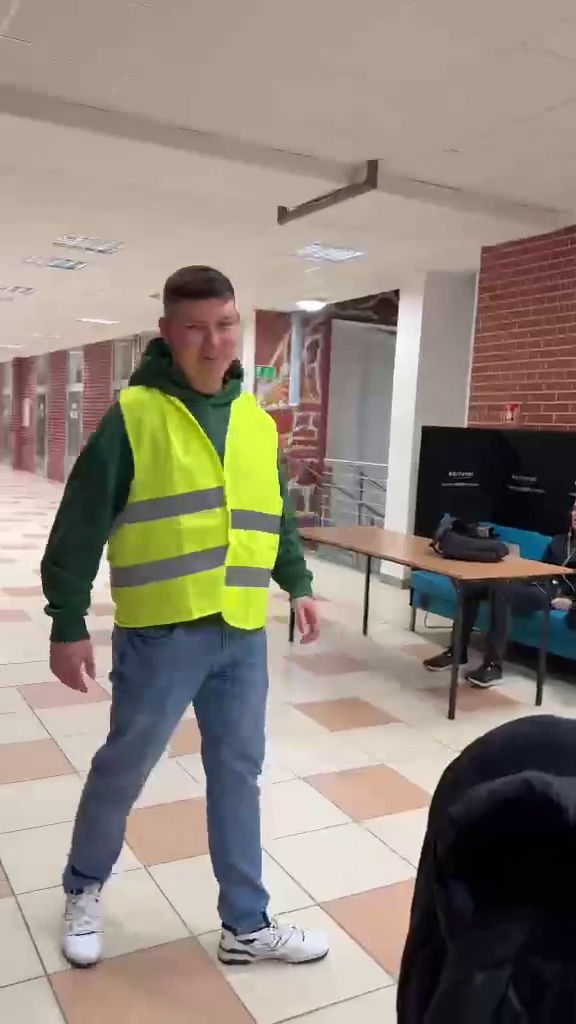vest: (44, 267, 327, 973)
